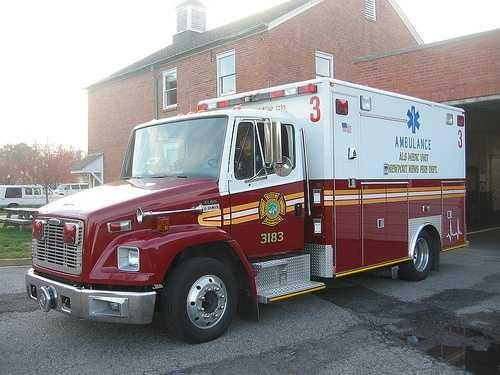car: (24, 75, 469, 343)
